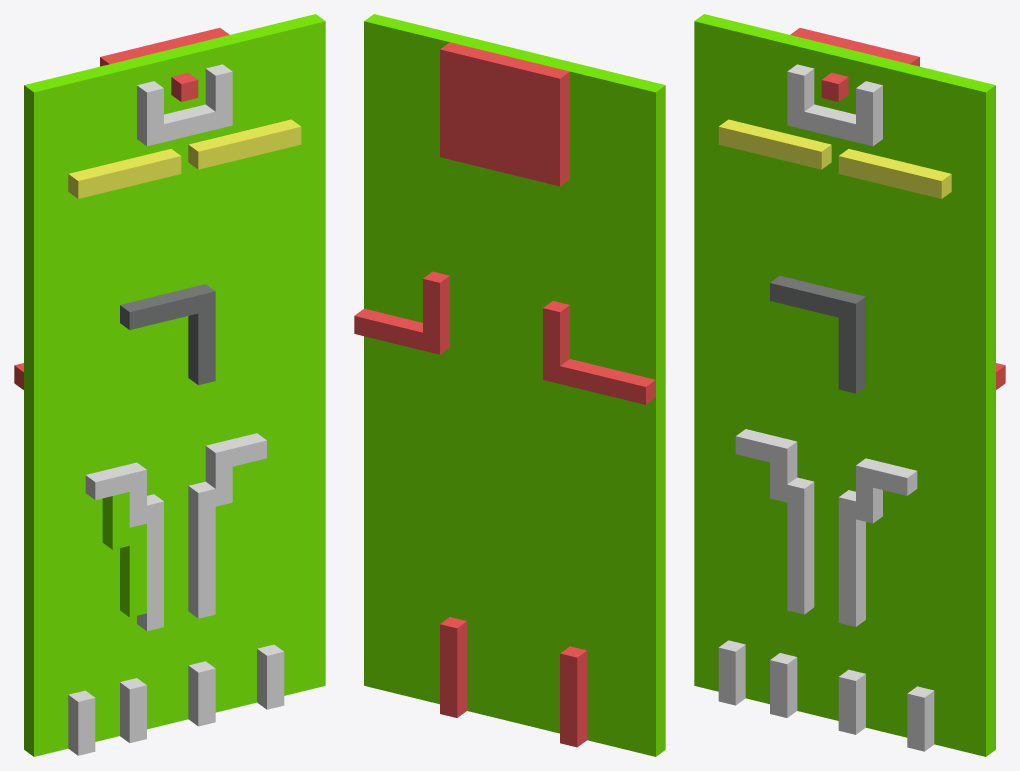
File: alien.dae
3 views of the same model, side by side, from view 1: azimuth 30°, elevation 25°; view 2: azimuth 150°, elevation 25°; view 3: azimuth 330°, elevation 25° (orthographic).
Parts seen in each view (by area): view 1: node; view 2: node; view 3: node.
Boxes of the visible parts, bbox=[...] form: node: bbox=[14, 14, 325, 756]; node: bbox=[354, 14, 665, 756]; node: bbox=[694, 14, 1005, 756].
Bounding box in the file's own units: 25.5 × 55.5 × 4.5.
